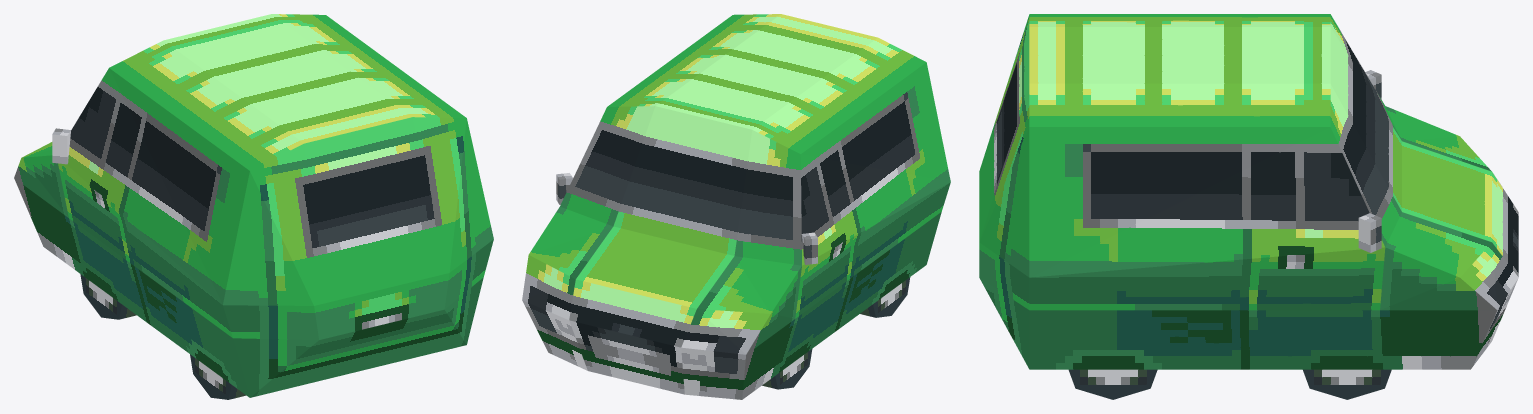
The model's file is mini_truck_model.glb.
3 views of the same model, side by side, from view 1: azimuth 30°, elevation 25°; view 2: azimuth 150°, elevation 25°; view 3: azimuth 270°, elevation 25° (orthographic). The views are drawn at different scales.
Parts seen in each view (by area): view 1: cube_2, cube_3, cube_4, cuboid_1; view 2: cube_2, cube_3, cube_4, cuboid_1; view 3: cube_2, cube_5, cube_6, cuboid_0.
Part boxes in pixels (x1=…): cube_2: x1=14, y1=14, x2=493, y2=397; cube_3: x1=80, y1=274, x2=136, y2=319; cube_4: x1=190, y1=354, x2=245, y2=399; cuboid_1: x1=52, y1=128, x2=70, y2=164; cube_2: x1=522, y1=14, x2=950, y2=399; cube_3: x1=762, y1=349, x2=812, y2=389; cube_4: x1=860, y1=277, x2=910, y2=317; cuboid_1: x1=801, y1=232, x2=817, y2=264; cube_2: x1=979, y1=14, x2=1518, y2=369; cube_5: x1=1068, y1=369, x2=1157, y2=399; cube_6: x1=1303, y1=369, x2=1391, y2=399; cuboid_0: x1=1358, y1=213, x2=1381, y2=252.
Bounding box in the file's own units: 1.35 × 1.19 × 2.02.
1 material, 1 textured.
